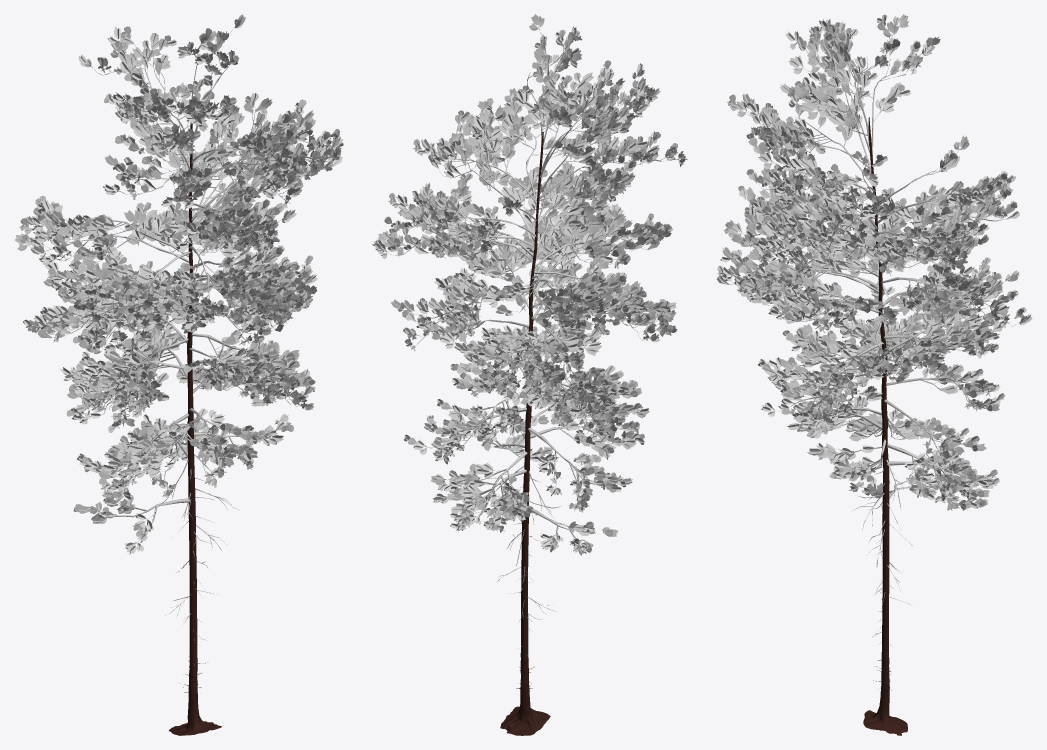
Rendered from pine_a_lod0.obj.
3 renders of one model, left to right at view 1: azimuth 30°, elevation 25°; view 2: azimuth 150°, elevation 25°; view 3: azimuth 270°, elevation 25°, orthographic. The views are drawn at different scales.
Visible parts, largest first — view 1: pine_a_lod0; view 2: pine_a_lod0; view 3: pine_a_lod0.
Part boxes in pixels (x1=…): pine_a_lod0: x1=14, y1=14, x2=343, y2=735; pine_a_lod0: x1=372, y1=14, x2=687, y2=735; pine_a_lod0: x1=716, y1=14, x2=1032, y2=735.
Bounding box in the file's own units: 299 × 803 × 327.
